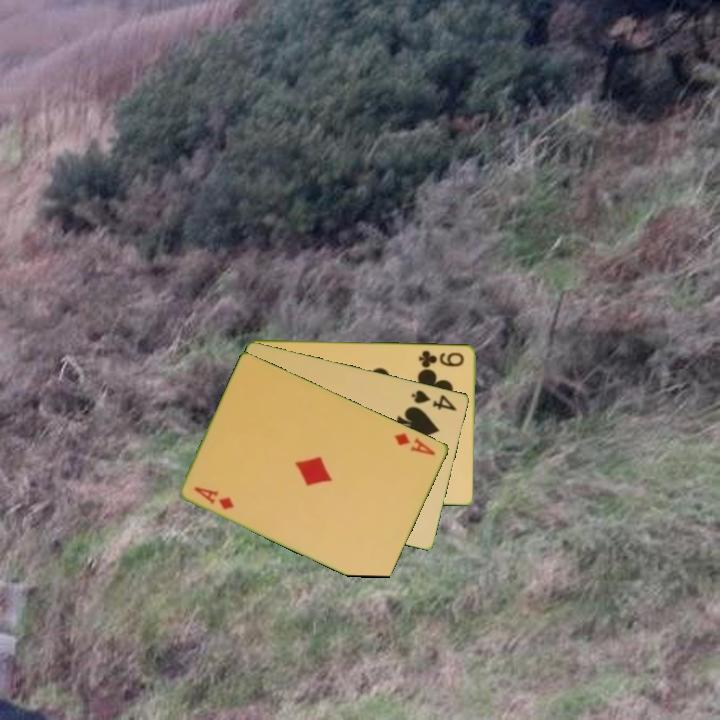4s: (408, 386, 460, 413)
9c: (415, 347, 467, 369)
Ad: (391, 429, 439, 458), (191, 483, 238, 512)
